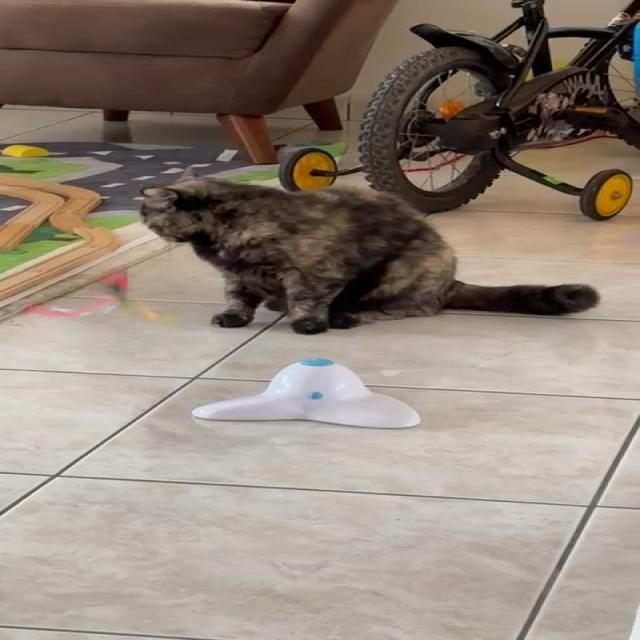authorized: (133, 167, 600, 335)
